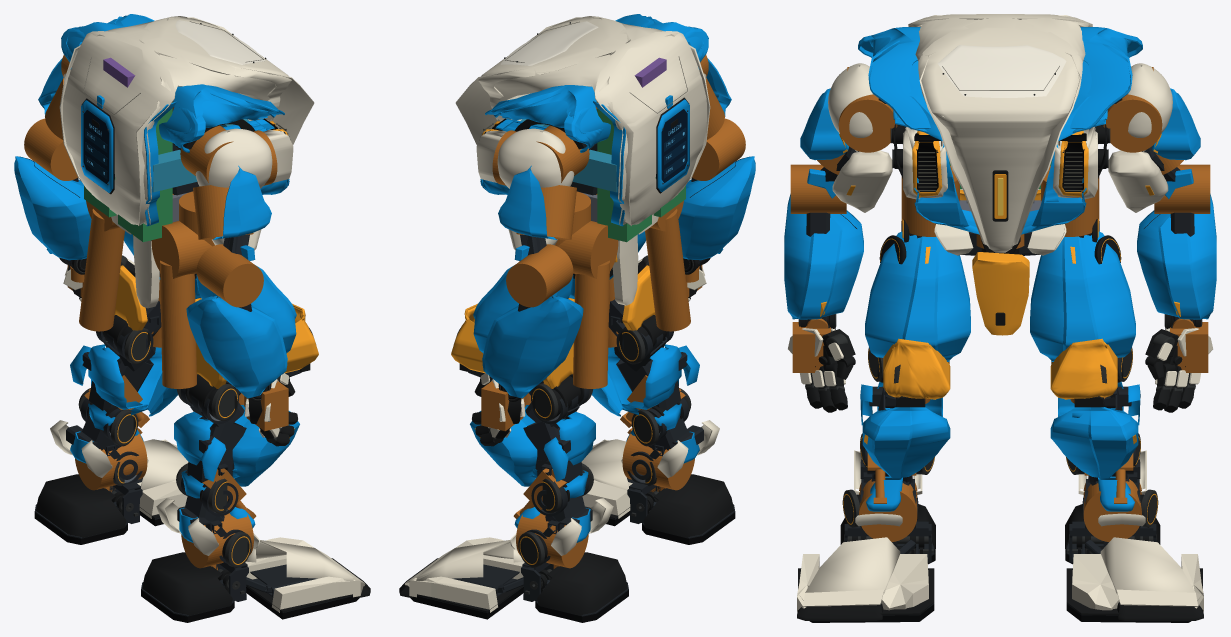
The model's file is internal_structure_b.glb.
The picture shows the model from 3 angles, left to right: view 1: azimuth 30°, elevation 25°; view 2: azimuth 150°, elevation 25°; view 3: azimuth 270°, elevation 25°; orthographic projection. The views are drawn at different scales.
Parts seen in each view (by area): view 1: continuous_ivory_torso_armor_cover, right_blue_forearm_wrap, left_blue_forearm_wrap, right_ivory_hood_window_side_lip, isb_module_ia_central_hydraulic_right_hip_pitch, right_composite_high_heel_shell, left_composite_high_heel_shell, isb_module_ia_central_hydraulic_left_hip_pitch, right_ivory_shoulder_cap, isb_module_ia_right_elbow, right_blue_deltoid_wrap, left_blue_middle_rear_guard_candidate (+57 smaller); view 2: continuous_ivory_torso_armor_cover, left_blue_forearm_wrap, right_blue_forearm_wrap, left_ivory_hood_window_side_lip, isb_module_ia_central_hydraulic_left_hip_pitch, left_composite_high_heel_shell, right_composite_high_heel_shell, isb_module_ia_central_hydraulic_right_hip_pitch, left_ivory_shoulder_cap, isb_module_ia_left_elbow, left_blue_deltoid_wrap, right_blue_middle_rear_guard_candidate (+57 smaller); view 3: continuous_ivory_torso_armor_cover, left_blue_thigh_wrap, right_blue_thigh_wrap, left_blue_forearm_wrap, right_blue_forearm_wrap, ivory_crown_inset, left_blue_middle_shank_wrap, right_blue_middle_shank_wrap, saffron_front_pelvis_cartridge, left_ivory_artwork_sloping_toe, right_ivory_artwork_sloping_toe, left_yellow_front_knee_insert (+49 smaller).
Part boxes in pixels (<box>): continuous_ivory_torso_armor_cover: <box>63,16,291,224</box>; right_blue_forearm_wrap: <box>186,296,287,398</box>; left_blue_forearm_wrap: <box>14,156,91,260</box>; right_ivory_hood_window_side_lip: <box>136,53,314,225</box>; isb_module_ia_central_hydraulic_right_hip_pitch: <box>160,260,196,388</box>; right_composite_high_heel_shell: <box>142,552,232,615</box>; left_composite_high_heel_shell: <box>36,474,126,538</box>; isb_module_ia_central_hydraulic_left_hip_pitch: <box>79,209,124,331</box>; right_ivory_shoulder_cap: <box>195,128,272,188</box>; isb_module_ia_right_elbow: <box>196,244,263,307</box>; right_blue_deltoid_wrap: <box>213,165,271,239</box>; left_blue_middle_rear_guard_candidate: <box>88,344,148,430</box>; continuous_ivory_torso_armor_cover: <box>478,16,706,224</box>; left_blue_forearm_wrap: <box>482,296,583,398</box>; right_blue_forearm_wrap: <box>678,156,755,260</box>; left_ivory_hood_window_side_lip: <box>455,53,633,225</box>; isb_module_ia_central_hydraulic_left_hip_pitch: <box>573,260,609,388</box>; left_composite_high_heel_shell: <box>537,552,627,615</box>; right_composite_high_heel_shell: <box>643,474,733,538</box>; isb_module_ia_central_hydraulic_right_hip_pitch: <box>645,209,690,331</box>; left_ivory_shoulder_cap: <box>497,128,574,188</box>; isb_module_ia_left_elbow: <box>506,244,573,307</box>; left_blue_deltoid_wrap: <box>498,165,556,239</box>; right_blue_middle_rear_guard_candidate: <box>621,344,681,430</box>; continuous_ivory_torso_armor_cover: <box>908,14,1092,252</box>; left_blue_thigh_wrap: <box>1030,231,1135,361</box>; right_blue_thigh_wrap: <box>865,231,970,361</box>; left_blue_forearm_wrap: <box>1137,194,1216,319</box>; right_blue_forearm_wrap: <box>784,194,863,319</box>; ivory_crown_inset: <box>937,45,1066,97</box>; left_blue_middle_shank_wrap: <box>1050,407,1138,478</box>; right_blue_middle_shank_wrap: <box>862,407,950,478</box>; saffron_front_pelvis_cartridge: <box>972,252,1029,335</box>; left_ivory_artwork_sloping_toe: <box>1100,537,1195,593</box>; right_ivory_artwork_sloping_toe: <box>805,537,900,593</box>; left_yellow_front_knee_insert: <box>1050,338,1117,399</box>.
Bounding box in the file's own units: 1.07 × 2.65 × 1.93.
